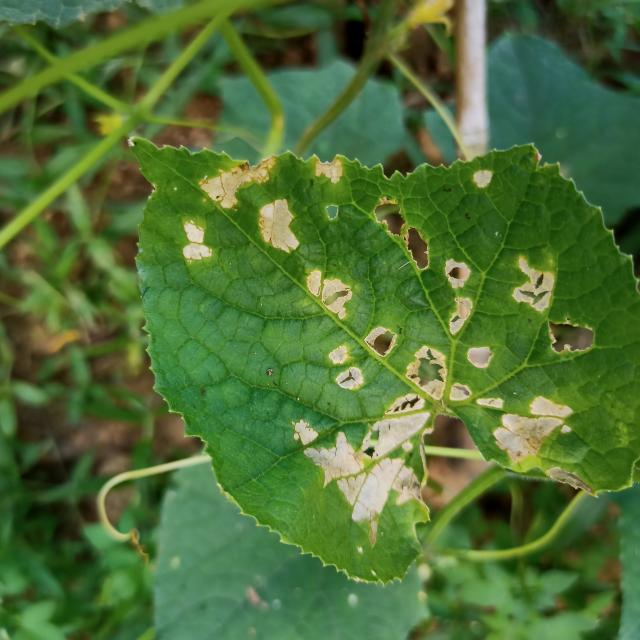disease_cucumber: (290, 253, 606, 541), (170, 138, 429, 322), (469, 165, 497, 201)
